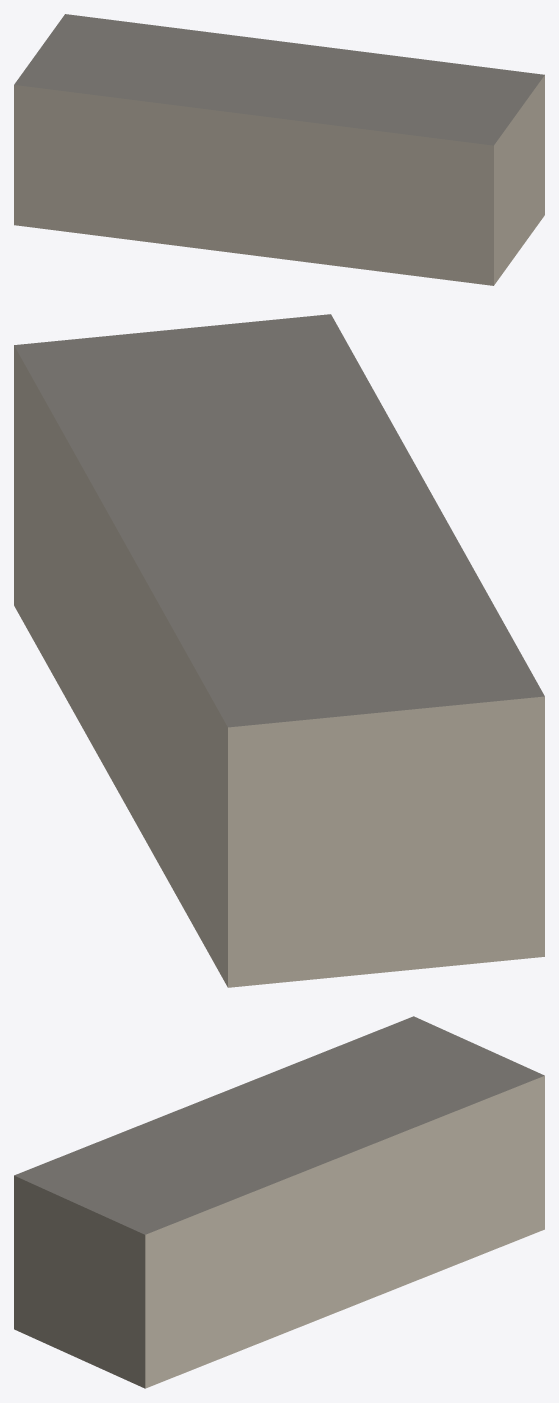
The picture shows the model from 3 angles, top to bottom: view 1: azimuth 30°, elevation 25°; view 2: azimuth 150°, elevation 25°; view 3: azimuth 270°, elevation 25°; orthographic projection. The views are drawn at different scales.
Visible parts, largest first — view 1: HP-w495771217; view 2: HP-w495771217; view 3: HP-w495771217.
Boxes of the visible parts, x1,y1,x2,y2 form: HP-w495771217: [14, 14, 544, 285]; HP-w495771217: [14, 314, 544, 987]; HP-w495771217: [14, 1016, 544, 1388].
Size of the model in its own units: 54.86 by 18 by 56.3.
